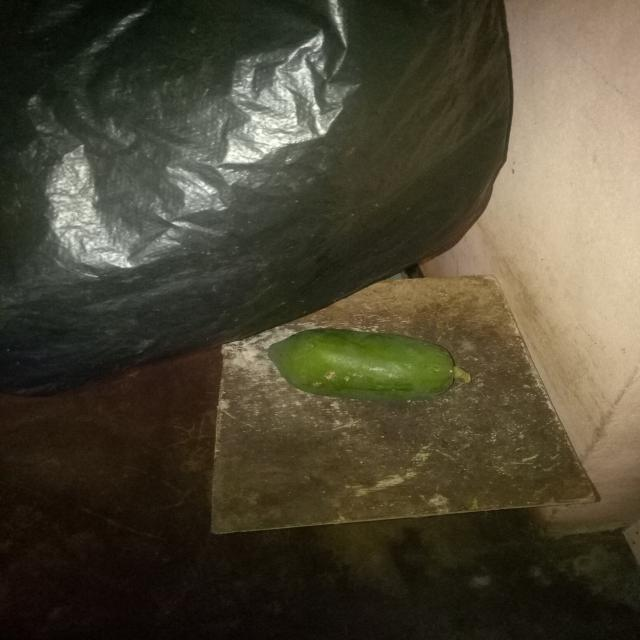Pepaya unrippen: (260, 331, 467, 404)
